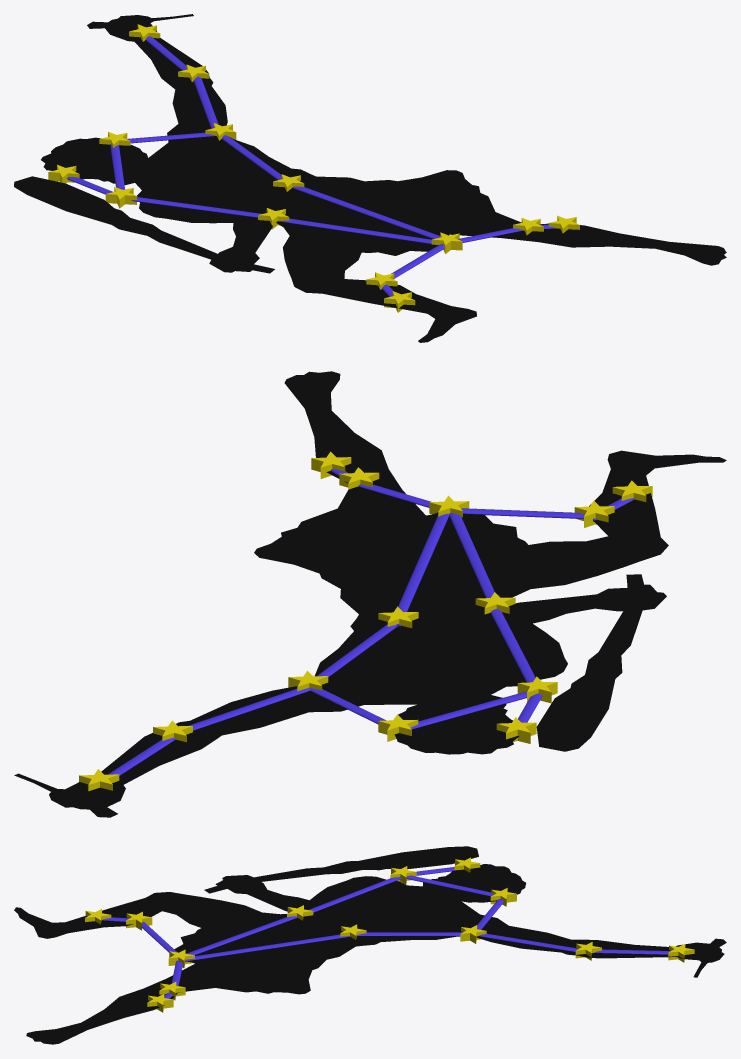
The model's file is Ushikai-za.glb.
The picture shows the model from 3 angles, top to bottom: view 1: azimuth 30°, elevation 25°; view 2: azimuth 150°, elevation 25°; view 3: azimuth 270°, elevation 25°; orthographic projection. The views are drawn at different scales.
Parts seen in each view (by area): view 1: 円, 円柱.004, 円柱.005, 円柱.006; view 2: 円, 円柱.004, 円柱.005, 円柱.006, 円柱.001, 円柱.011, 円柱.007, 円柱.002; view 3: 円, 円柱.004, 円柱.005, 円柱.006, 円柱.001, 円柱.007, 円柱.002.
Boxes of the visible parts, box(x1,y1,x2,y2) form: 円: box(14, 14, 726, 342); 円柱.004: box(292, 186, 440, 238); 円柱.005: box(280, 218, 431, 243); 円柱.006: box(131, 197, 261, 217); 円: box(14, 371, 726, 817); 円柱.004: box(396, 513, 449, 626); 円柱.005: box(449, 513, 494, 597); 円柱.006: box(490, 609, 535, 682); 円柱.001: box(188, 687, 310, 730); 円柱.011: box(461, 508, 584, 518); 円柱.007: box(410, 691, 527, 729); 円柱.002: box(317, 624, 397, 676); 円: box(14, 846, 726, 1044); 円柱.004: box(185, 934, 350, 961); 円柱.005: box(186, 916, 297, 954); 円柱.006: box(309, 877, 401, 912); 円柱.001: box(479, 933, 578, 951); 円柱.007: box(406, 875, 493, 896); 円柱.002: box(356, 932, 462, 936).
Bounding box in the file's own units: 49.08 × 0.8959 × 74.57.
